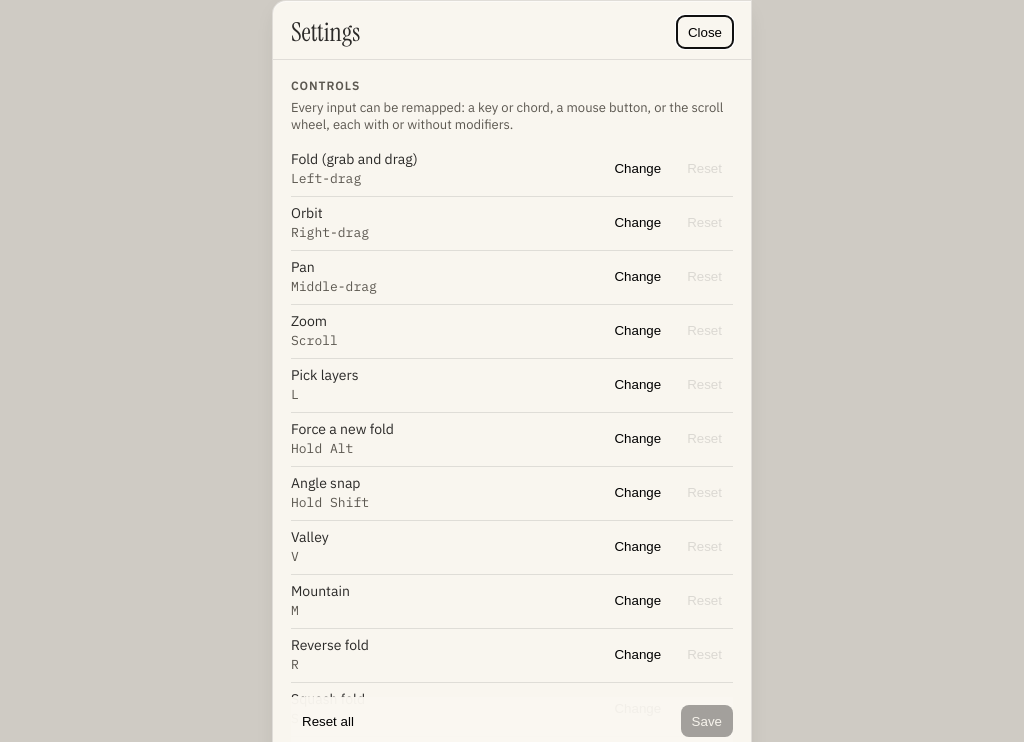
settings sheet: controls › replacing a binding keeps the other kinds (zoom keeps its scroll wheel)
This screenshot has width=1024, height=742.
Click the button with aria-label "Change Zoom" at [638, 330], box left=604, top=314, right=672, bottom=346
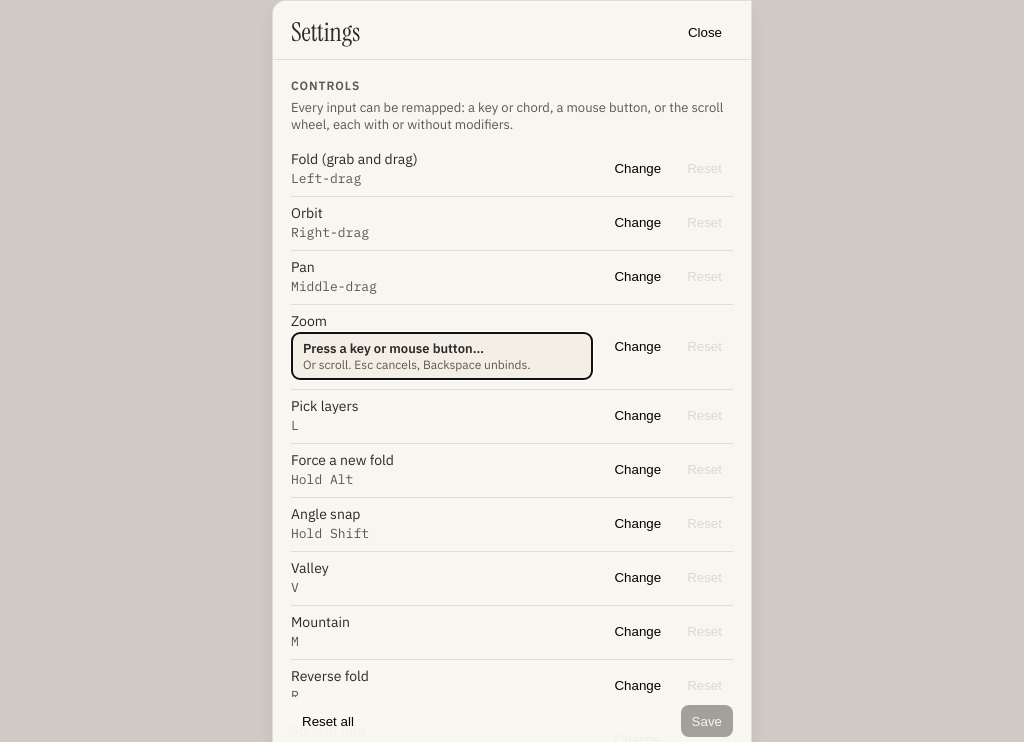
Press q in the element named "New binding for Zoom", box left=291, top=332, right=594, bottom=380
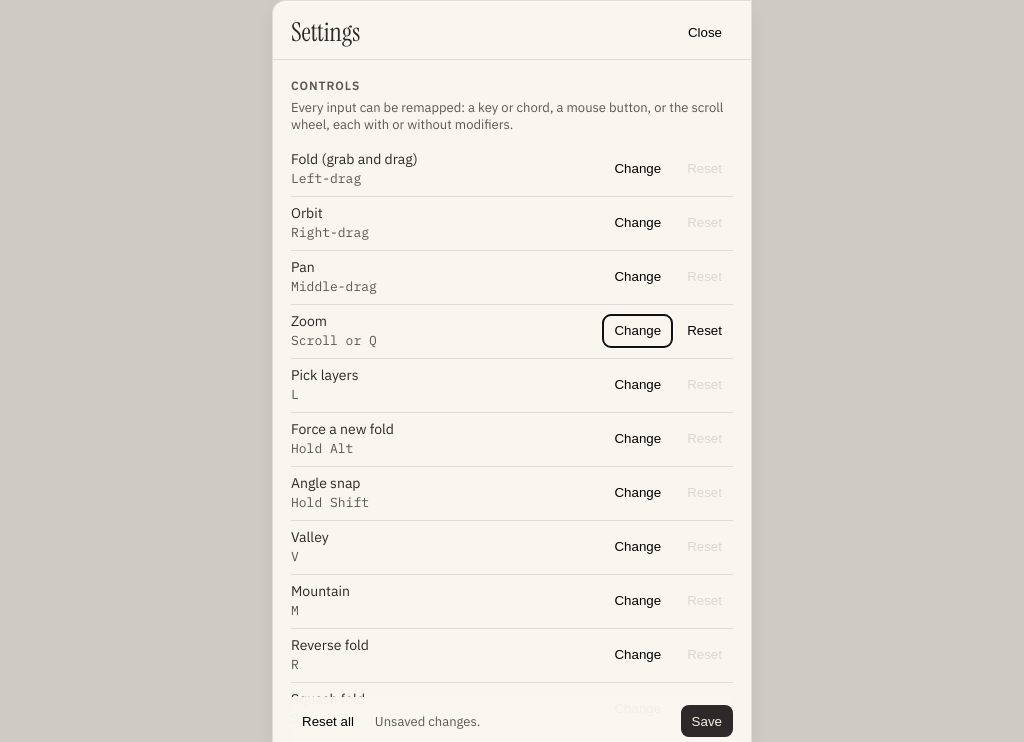
Check: the text "Scroll or Q" is shown, box left=291, top=332, right=377, bottom=349
